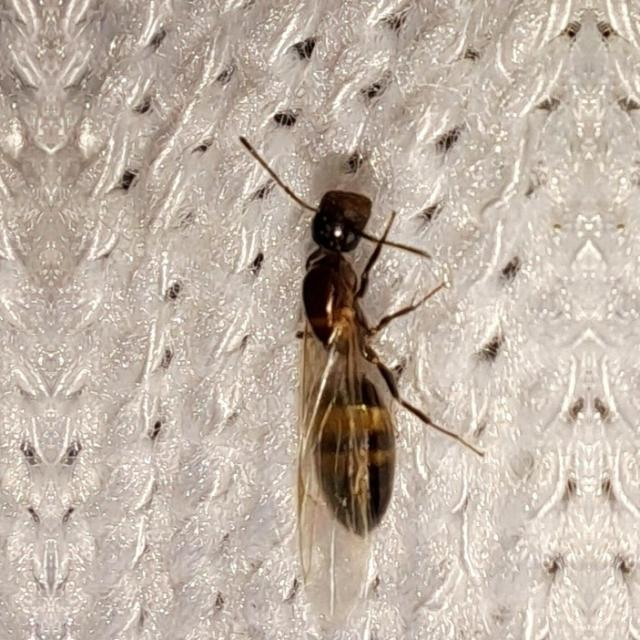Colobopsis: (253, 152, 444, 570), (58, 504, 74, 526), (26, 504, 42, 526)
